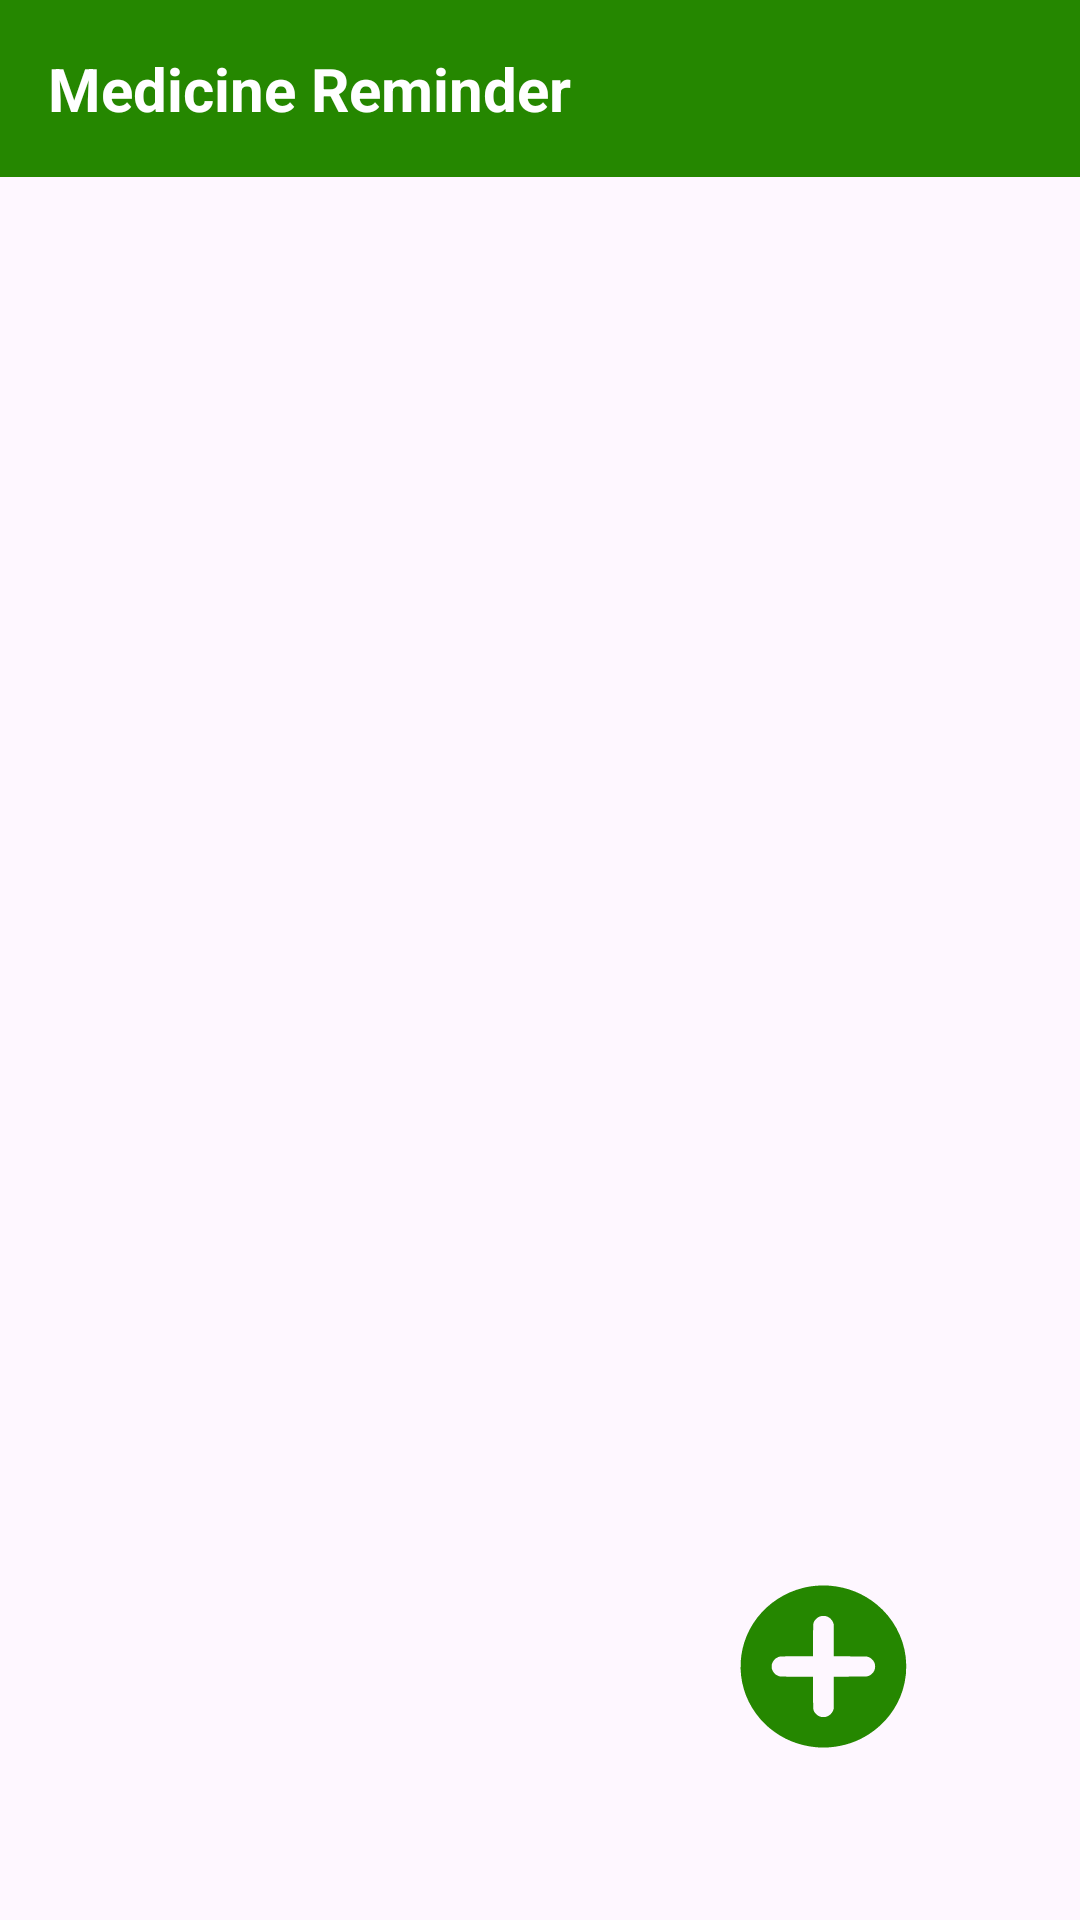

Where to tap for icons on this 1080*1920 app screen, as [x,y]:
circleplus: [823,1666]
